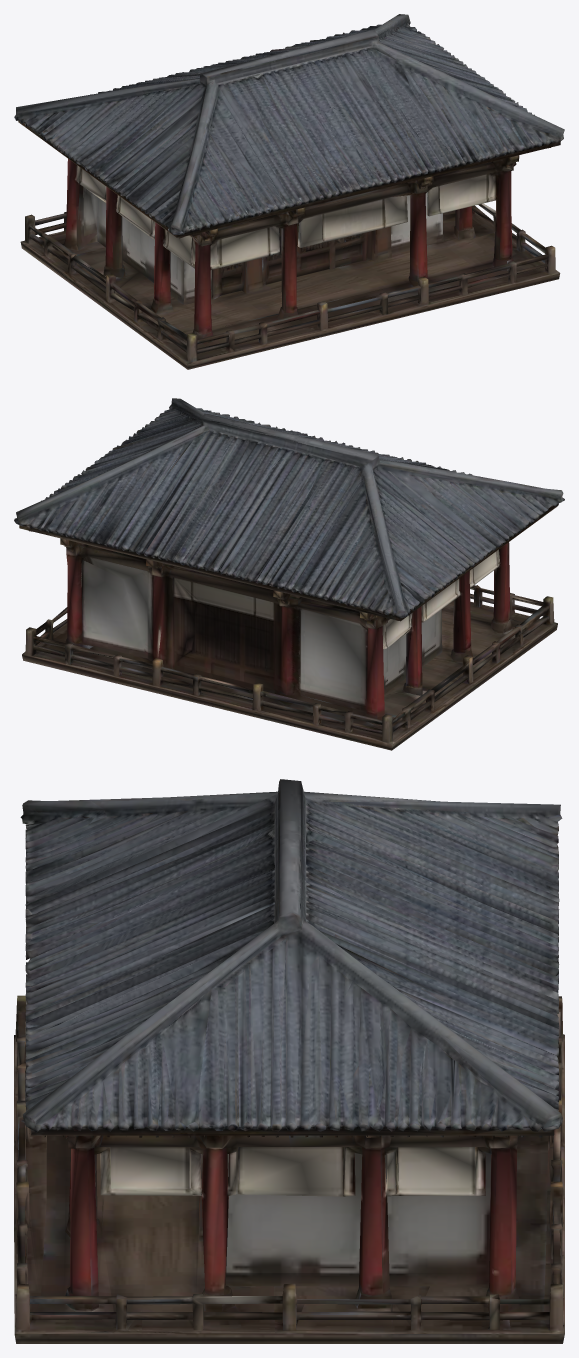
The model's file is pavilion_lod0.glb.
3 renders of one model, top to bottom at view 1: azimuth 30°, elevation 25°; view 2: azimuth 150°, elevation 25°; view 3: azimuth 270°, elevation 25°, orthographic. The views are drawn at different scales.
Visible parts, largest first — view 1: node_0; view 2: node_0; view 3: node_0.
Part boxes in pixels (<box>): node_0: <box>14,14,564,369</box>; node_0: <box>14,398,564,750</box>; node_0: <box>14,779,564,1343</box>.
Size of the model in its own units: 0.9257 by 0.4774 by 0.6796.
Materials: 1 (1 with a texture image).
